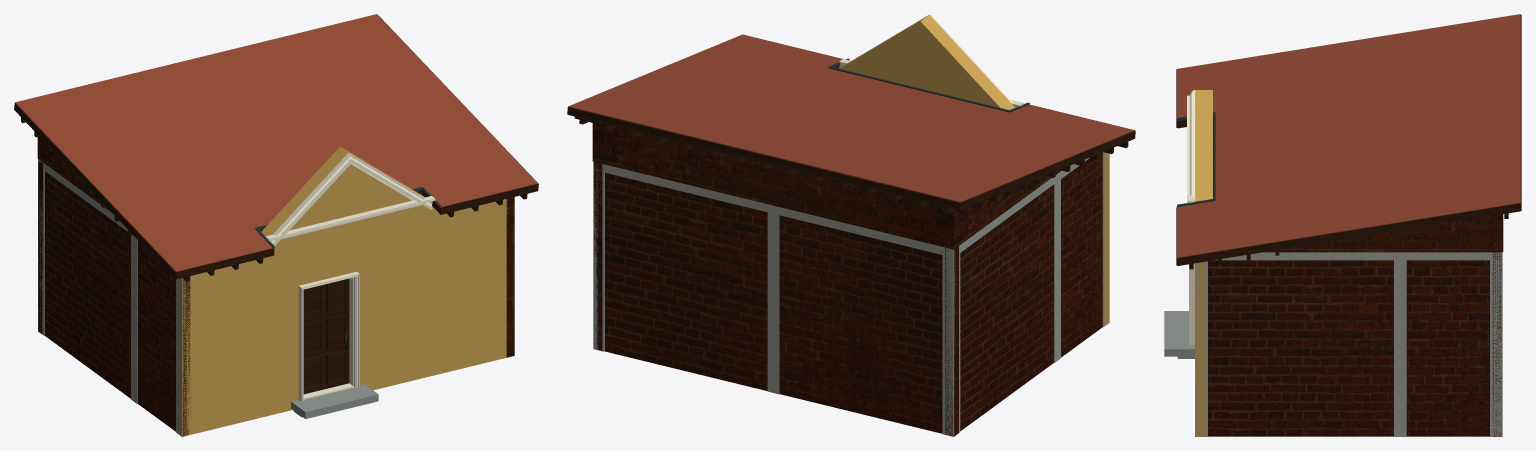
The model's file is building.glb.
3 views of the same model, side by side, from view 1: azimuth 30°, elevation 25°; view 2: azimuth 150°, elevation 25°; view 3: azimuth 270°, elevation 25° (orthographic). The views are drawn at different scales.
Visible parts, largest first — view 1: roof_assembly/cubierta/roof_cover#0001, house:0/edge0/z0/house:0/edge0/z0/wall_0_0, house:0/edge3/z0/house:0/edge3/z0/wall_0_0, crown/fronton/crown_body#0001, crown/fronton/crown_moulding#0001, site/entrance/0/entrance_step#0002, house:0/edge1/z0/house:0/edge1/z0/wall_0_0, roof_assembly/cubierta/roof_fascia#0002, crown/fronton/crown_base_cornice#0001, house:0/edge3/z0/house:0/edge3/z0/column_2_0, house:0/edge0/z0/opening_u2.80_v0.12/door_panel_back#0001, house:0/edge3/z0/house:0/edge3/z0/column_1_0 (+11 smaller); view 2: house:0/edge2/z0/house:0/edge2/z0/wall_0_0, roof_assembly/cubierta/roof_cover#0001, house:0/edge3/z0/house:0/edge3/z0/wall_0_0, roof_assembly/cubierta/roof_gable_closure#0007, crown/fronton/crown_body#0001, roof_assembly/cubierta/roof_fascia#0001, house:0/edge2/z0/house:0/edge2/z0/beam_0_0, house:0/edge2/z0/house:0/edge2/z0/column_2_0, house:0/edge2/z0/house:0/edge2/z0/column_1_0, roof_assembly/cubierta/roof_gable_closure#0009, roof_assembly/cubierta/roof_fascia#0002, house:0/edge1/z0/house:0/edge1/z0/wall_0_0 (+7 smaller); view 3: roof_assembly/cubierta/roof_cover#0001, house:0/edge1/z0/house:0/edge1/z0/wall_0_0, roof_assembly/cubierta/roof_gable_closure#0005, roof_assembly/cubierta/roof_fascia#0005, house:0/edge1/z0/house:0/edge1/z0/beam_0_0, house:0/edge1/z0/house:0/edge1/z0/column_2_0, house:0/edge1/z0/house:0/edge1/z0/column_1_0, house:0/edge0/z0/house:0/edge0/z0/wall_0_0, crown/fronton/crown_body#0001, house:0/edge1/z0/house:0/edge1/z0/column_0_0, site/entrance/0/entrance_step#0002, house:0/edge2/z0/house:0/edge2/z0/wall_0_0 (+3 smaller).
Part boxes in pixels (x1,y1,x2,y2): roof_assembly/cubierta/roof_cover#0001: (15, 14, 537, 271); house:0/edge0/z0/house:0/edge0/z0/wall_0_0: (177, 199, 514, 436); house:0/edge3/z0/house:0/edge3/z0/wall_0_0: (44, 171, 190, 436); crown/fronton/crown_body#0001: (261, 146, 424, 236); crown/fronton/crown_moulding#0001: (270, 152, 432, 245); site/entrance/0/entrance_step#0002: (291, 384, 378, 418); house:0/edge1/z0/house:0/edge1/z0/wall_0_0: (506, 197, 514, 357); roof_assembly/cubierta/roof_fascia#0002: (14, 103, 176, 278); crown/fronton/crown_base_cornice#0001: (265, 196, 435, 241); house:0/edge3/z0/house:0/edge3/z0/column_2_0: (131, 235, 137, 403); house:0/edge0/z0/opening_u2.80_v0.12/door_panel_back#0001: (303, 284, 344, 385); house:0/edge3/z0/house:0/edge3/z0/column_1_0: (176, 278, 182, 436); house:0/edge2/z0/house:0/edge2/z0/wall_0_0: (605, 173, 958, 436); roof_assembly/cubierta/roof_cover#0001: (568, 34, 1134, 202); house:0/edge3/z0/house:0/edge3/z0/wall_0_0: (944, 152, 1102, 436); roof_assembly/cubierta/roof_gable_closure#0007: (600, 123, 953, 249); crown/fronton/crown_body#0001: (839, 16, 1013, 109); roof_assembly/cubierta/roof_fascia#0001: (568, 107, 960, 210); house:0/edge2/z0/house:0/edge2/z0/beam_0_0: (593, 162, 953, 257); house:0/edge2/z0/house:0/edge2/z0/column_2_0: (767, 212, 779, 394); house:0/edge2/z0/house:0/edge2/z0/column_1_0: (942, 255, 953, 436); roof_assembly/cubierta/roof_gable_closure#0009: (958, 170, 1061, 245); roof_assembly/cubierta/roof_fascia#0002: (960, 130, 1135, 210); house:0/edge1/z0/house:0/edge1/z0/wall_0_0: (594, 162, 602, 350); roof_assembly/cubierta/roof_cover#0001: (1177, 14, 1520, 257); house:0/edge1/z0/house:0/edge1/z0/wall_0_0: (1208, 260, 1489, 436); roof_assembly/cubierta/roof_gable_closure#0005: (1264, 214, 1502, 252); roof_assembly/cubierta/roof_fascia#0005: (1176, 203, 1521, 265); house:0/edge1/z0/house:0/edge1/z0/beam_0_0: (1214, 252, 1502, 260); house:0/edge1/z0/house:0/edge1/z0/column_2_0: (1394, 260, 1406, 436); house:0/edge1/z0/house:0/edge1/z0/column_1_0: (1490, 260, 1502, 436); house:0/edge0/z0/house:0/edge0/z0/wall_0_0: (1195, 262, 1205, 436); crown/fronton/crown_body#0001: (1198, 90, 1212, 201); house:0/edge1/z0/house:0/edge1/z0/column_0_0: (1195, 261, 1207, 436); site/entrance/0/entrance_step#0002: (1164, 311, 1194, 356); house:0/edge2/z0/house:0/edge2/z0/wall_0_0: (1492, 252, 1501, 436).
Size of the model in its own units: 8.74 by 5.64 by 6.97.
Materials: 9 (2 with a texture image).
